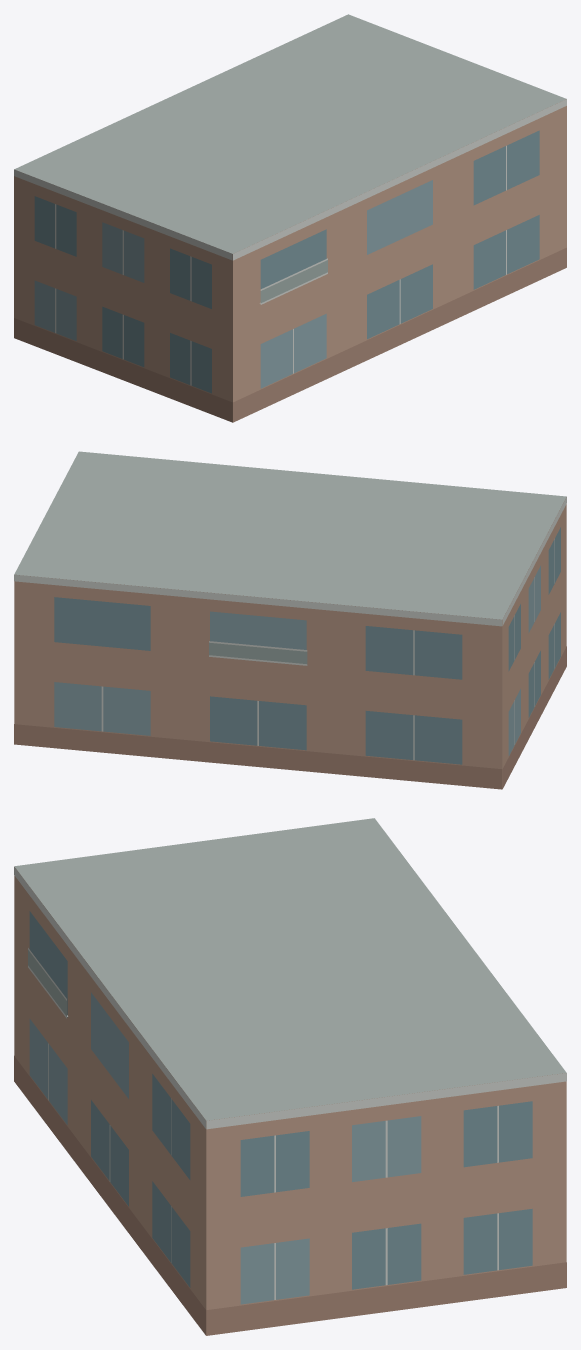
The model's file is survey-upis-32802007.glb.
The picture shows the model from 3 angles, top to bottom: view 1: azimuth 30°, elevation 25°; view 2: azimuth 150°, elevation 25°; view 3: azimuth 270°, elevation 25°; orthographic projection. The views are drawn at different scales.
Parts seen in each view (by area): view 1: survey-upis-32802007.tmp; view 2: survey-upis-32802007.tmp; view 3: survey-upis-32802007.tmp.
Part boxes in pixels (x1,y1,x2,y2): survey-upis-32802007.tmp: (14, 14, 566, 422); survey-upis-32802007.tmp: (14, 451, 566, 789); survey-upis-32802007.tmp: (14, 818, 566, 1335).
Size of the model in its own units: 18.43 by 6.1 by 14.22.
